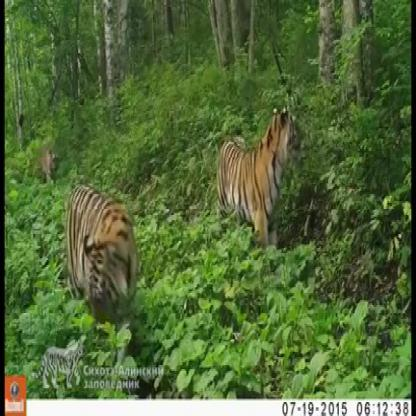Tiger: (213, 98, 301, 245), (57, 178, 139, 320)
